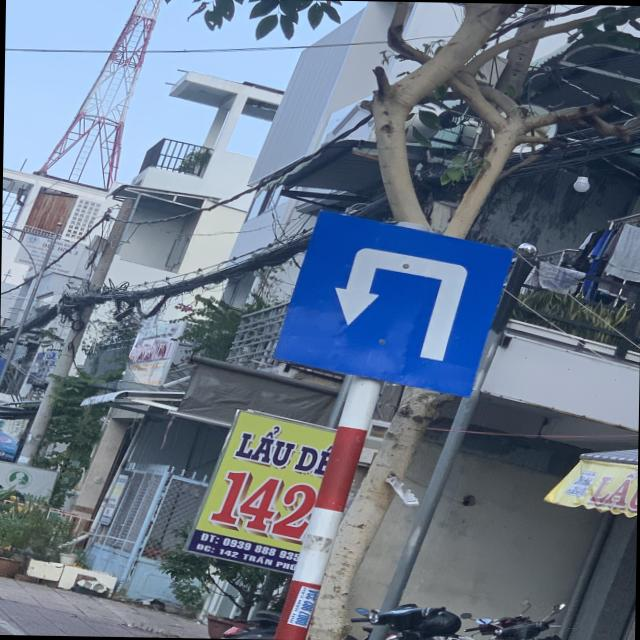Den_Giao_Thong: (278, 216, 503, 390)
